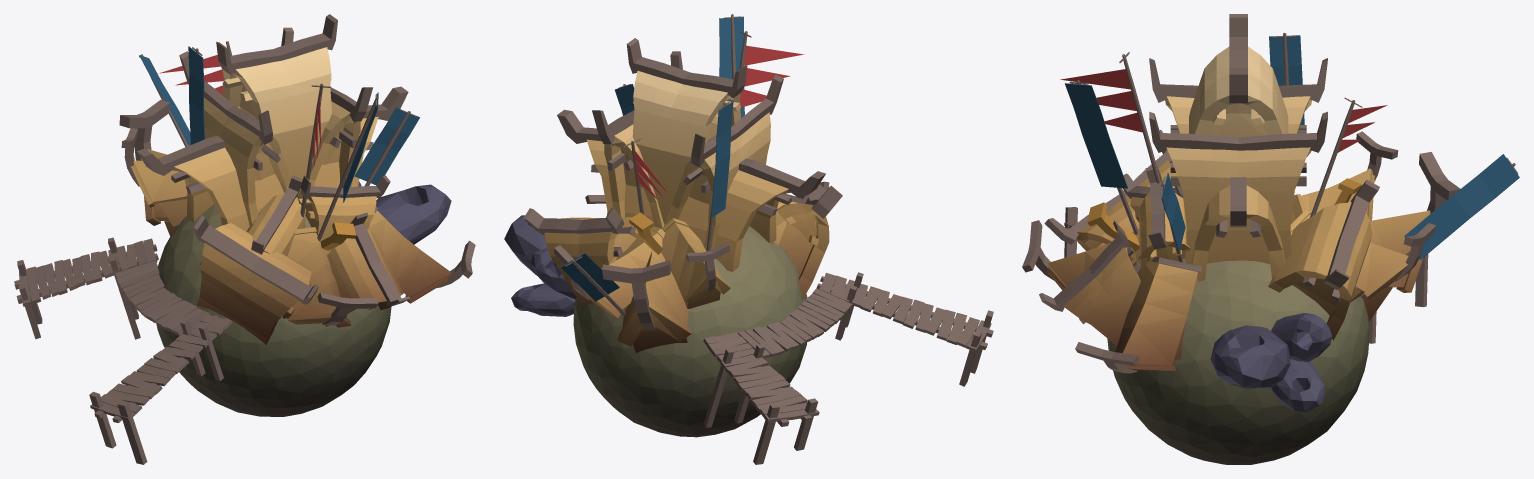
Rendered from SM_Planet0.fbx.
3 views of the same model, side by side, from view 1: azimuth 30°, elevation 25°; view 2: azimuth 150°, elevation 25°; view 3: azimuth 270°, elevation 25° (orthographic). The views are drawn at different scales.
Parts seen in each view (by area): view 1: Planet0; view 2: Planet0; view 3: Planet0.
Boxes of the visible parts, <box> form: Planet0: <box>14,14,475,464</box>; Planet0: <box>504,14,993,464</box>; Planet0: <box>1022,14,1519,464</box>.
Bounding box in the file's own units: 4.06 × 3.46 × 3.8.
1 material, 1 textured.
